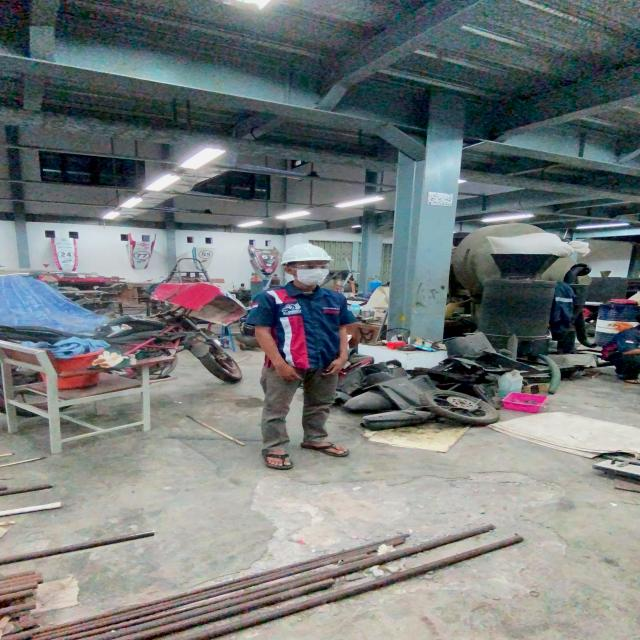face_mask: (291, 261, 334, 286)
glasses: (290, 261, 332, 271)
hand_noglove: (274, 364, 304, 386), (321, 358, 349, 377)
head_helmet: (275, 242, 336, 264)
person: (248, 243, 365, 472)
